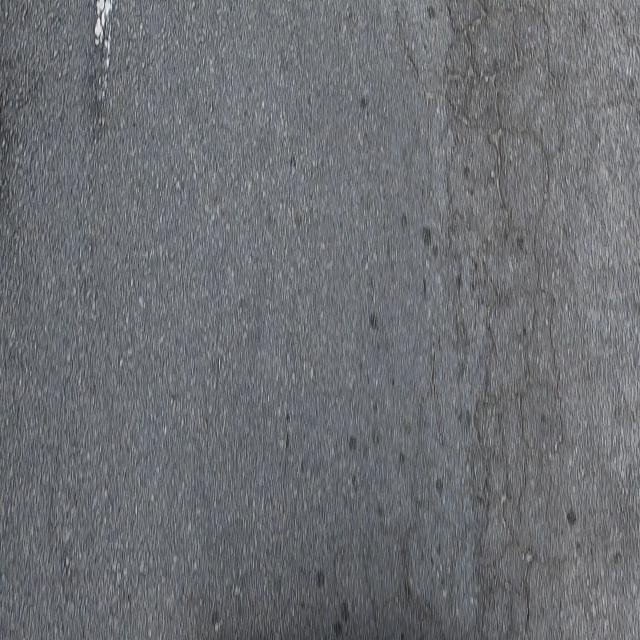Retak-Buaya: (434, 4, 572, 640)
